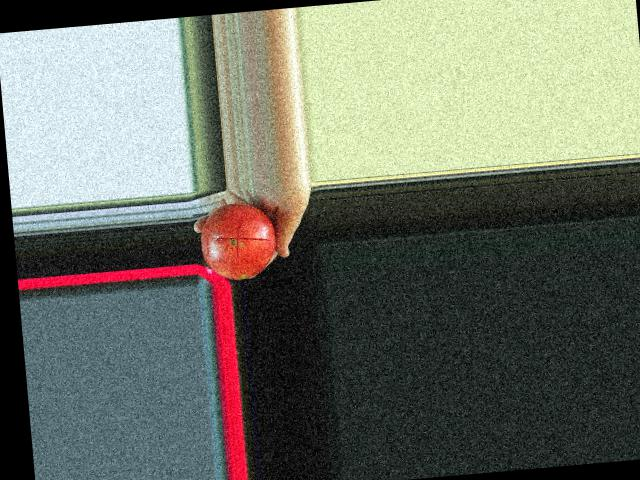tomato: (196, 199, 279, 282)
